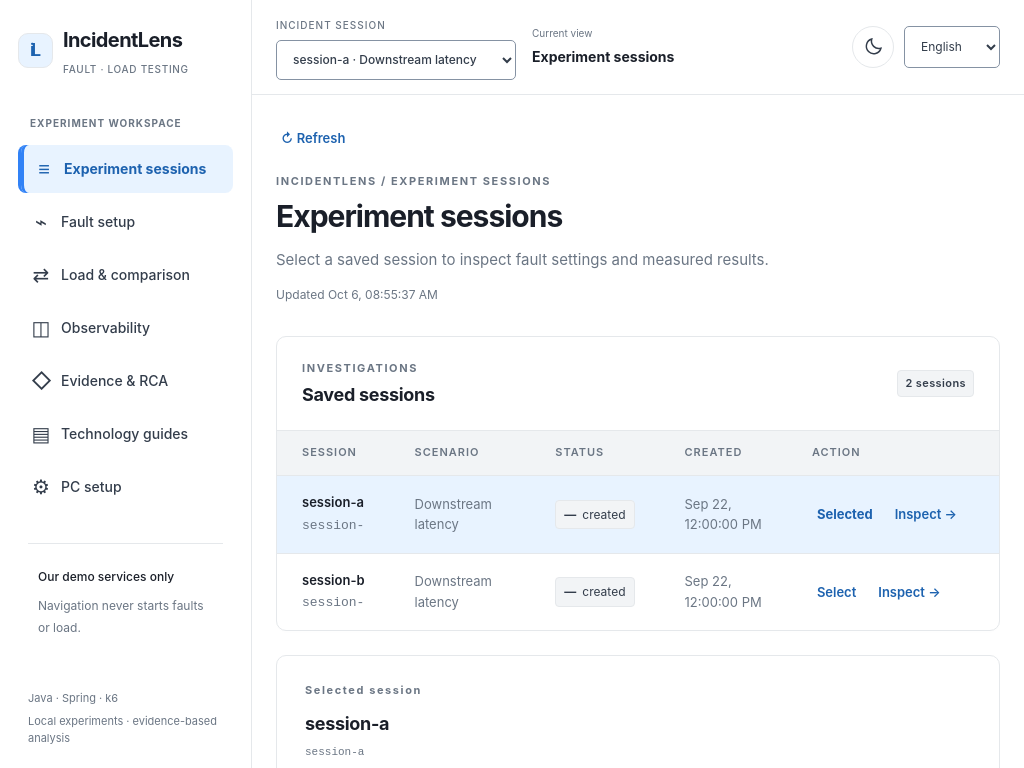
Test: freshness and session isolation › does not present an unreachable fault store as a disabled fault
The width and height of the screenshot is (1024, 768).
Click the button "◫ Observability": (126, 328) [18, 304, 233, 352]
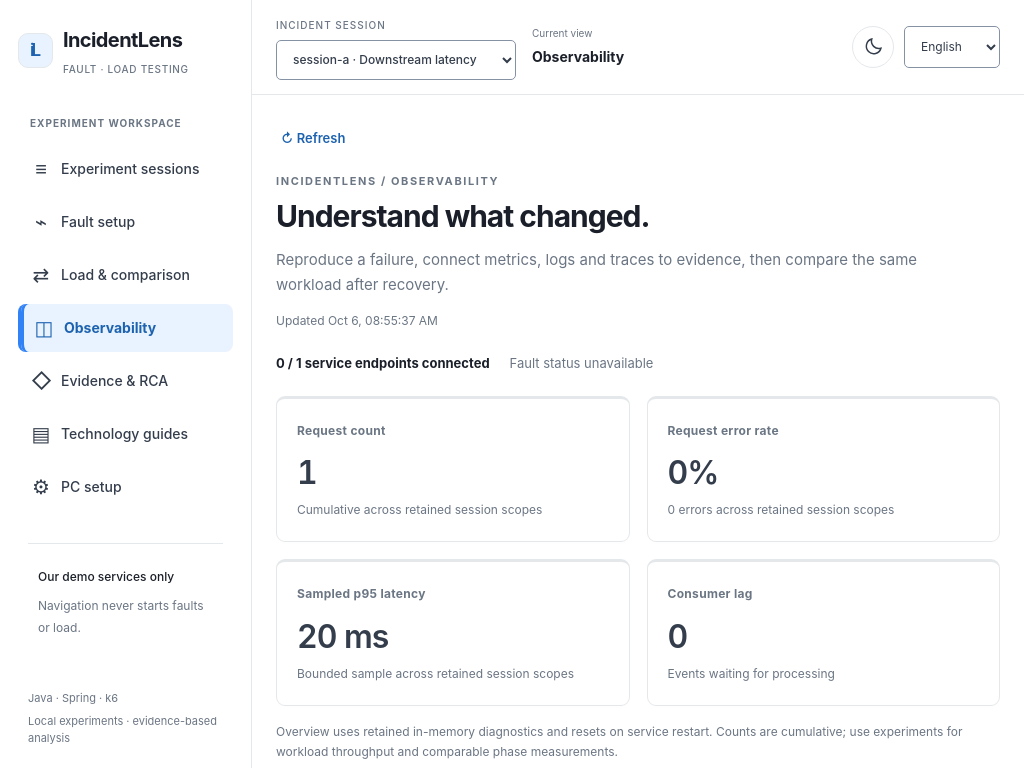
Expected: the element with class "overview-state" does not show "fault disabled", [276, 355, 653, 371]
Expected: the element with class "overview-state" shows "Fault status unavailable", [510, 355, 653, 371]
